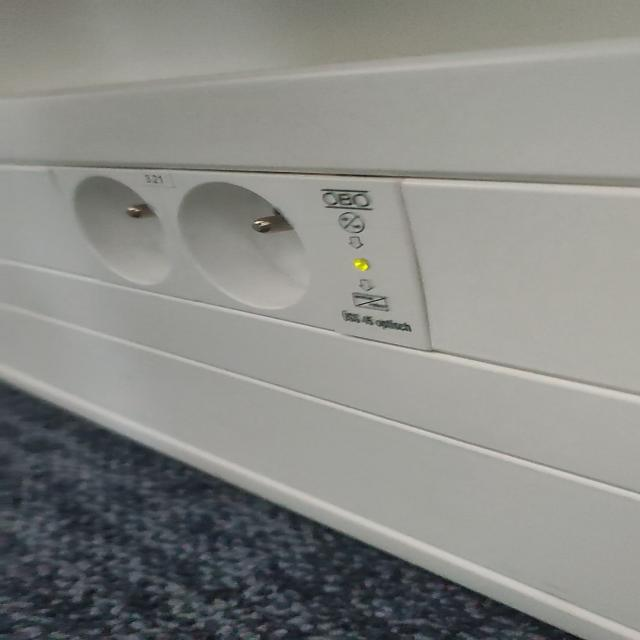house plug: (176, 169, 319, 329), (53, 162, 194, 302)
